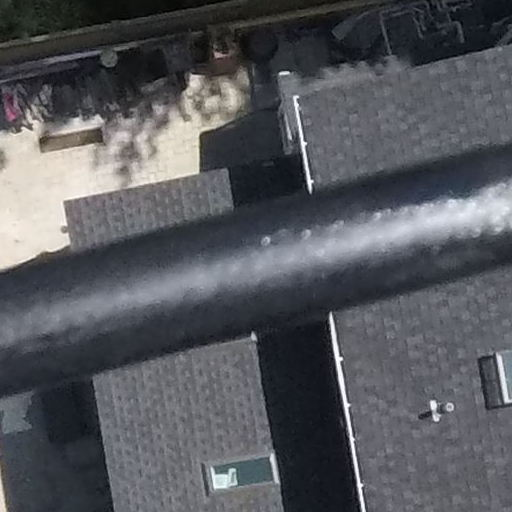flower pot: (97, 52, 123, 70)
